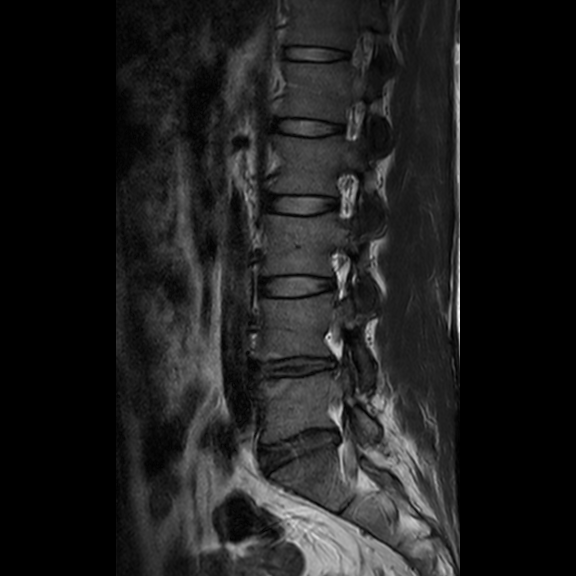RFS0: (321, 163, 366, 228), (317, 238, 357, 307), (328, 93, 371, 150)
